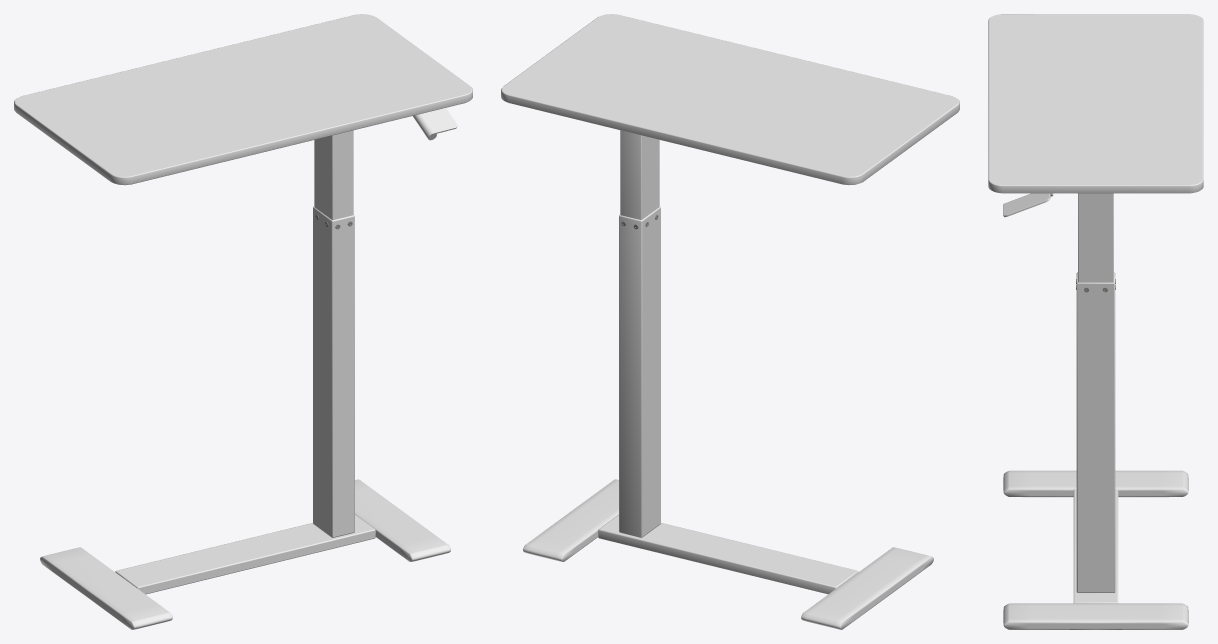
File: bollsidan_stolik_pod_laptopa_30574370.glb
3 renders of one model, left to right at view 1: azimuth 30°, elevation 25°; view 2: azimuth 150°, elevation 25°; view 3: azimuth 270°, elevation 25°, orthographic. The views are drawn at different scales.
Visible parts, largest first — view 1: bollsidan_stolik_pod_laptopa_30574370; view 2: bollsidan_stolik_pod_laptopa_30574370; view 3: bollsidan_stolik_pod_laptopa_30574370.
Boxes of the visible parts, <box> form: bollsidan_stolik_pod_laptopa_30574370: <box>14,14,472,629</box>; bollsidan_stolik_pod_laptopa_30574370: <box>501,14,959,629</box>; bollsidan_stolik_pod_laptopa_30574370: <box>988,14,1203,629</box>.
Bounding box in the file's own units: 0.68 × 0.8477 × 0.36.
1 material, 1 textured.
